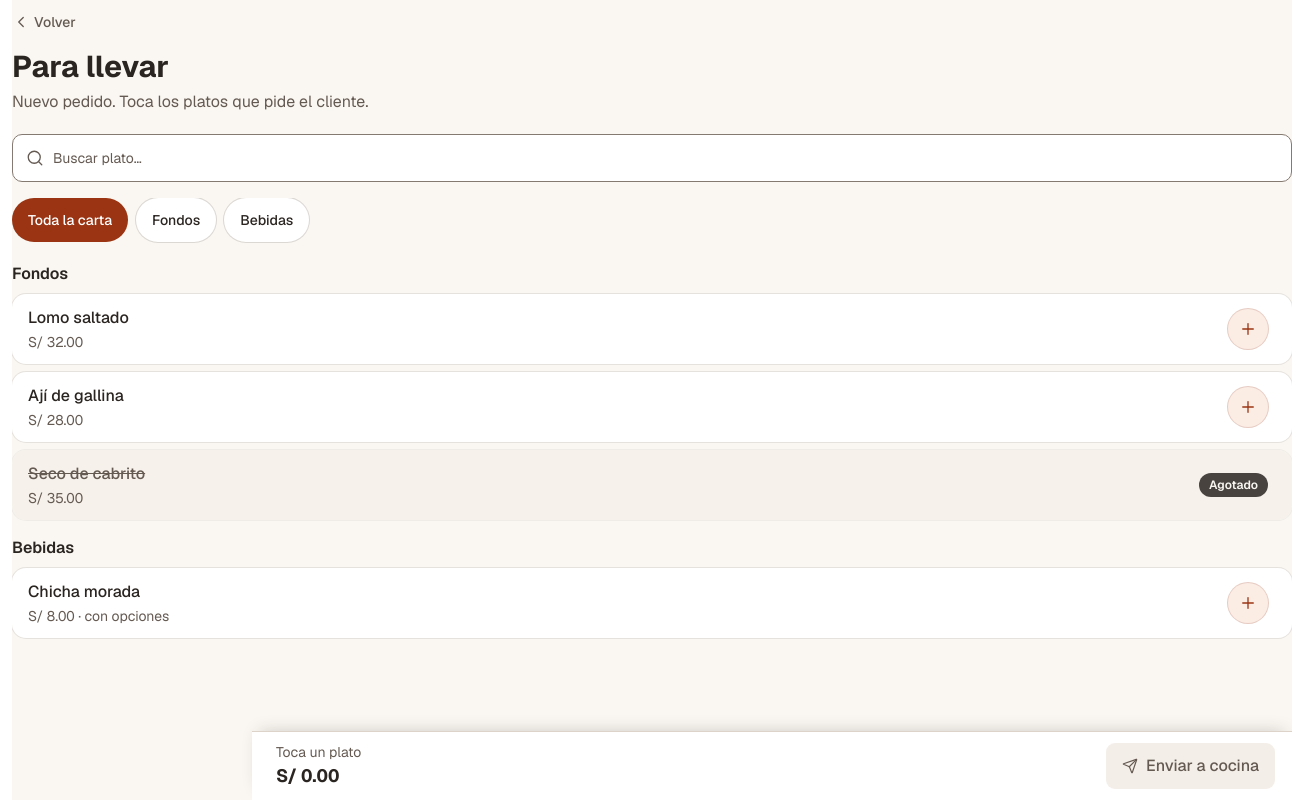
Test case: la carta para tomar el pedido › con el más y el menos se ajusta la cantidad; en uno, el menos quita el plato
The image size is (1304, 800).
Click the button "Lomo saltado S/ 32.00": coordinates (78, 317) [12,294,1284,364]
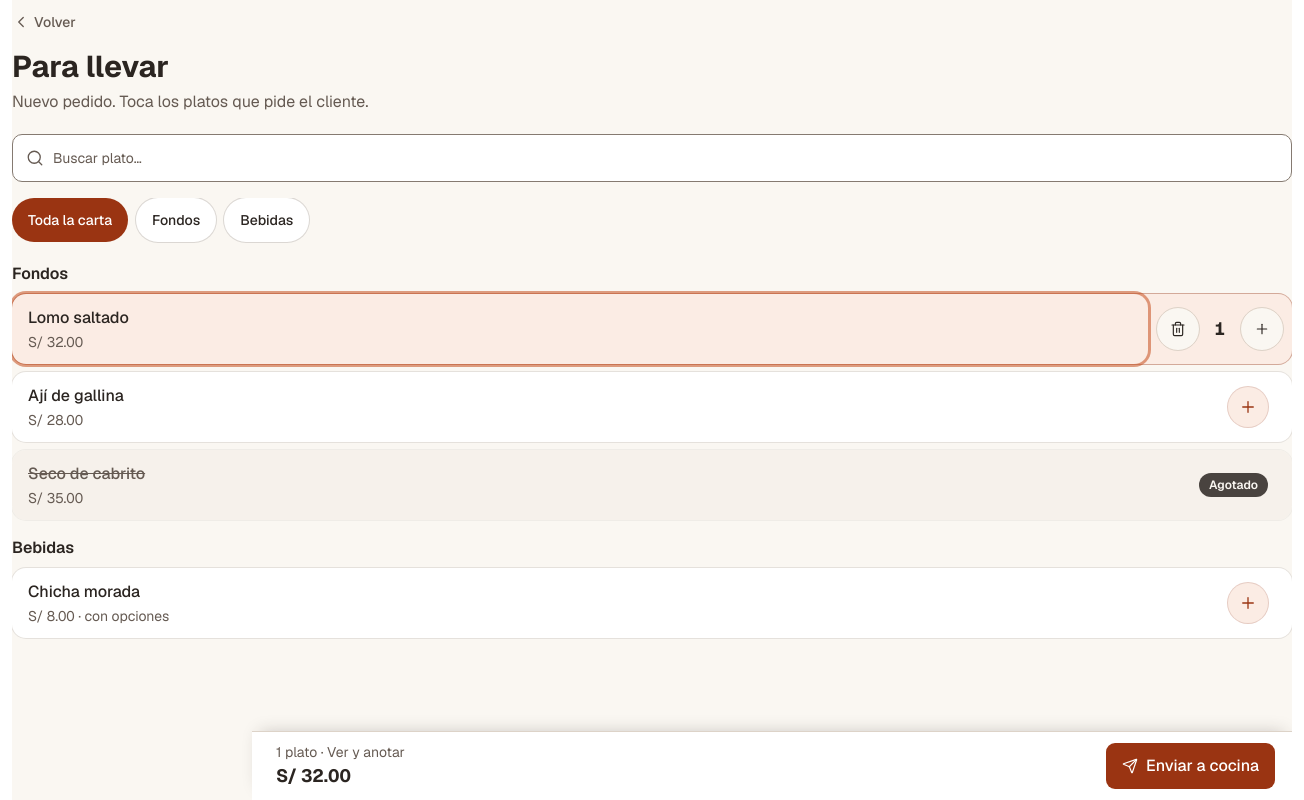
Click the button named "Uno más de Lomo saltado": coordinates (1262, 328) [1240,306,1284,350]
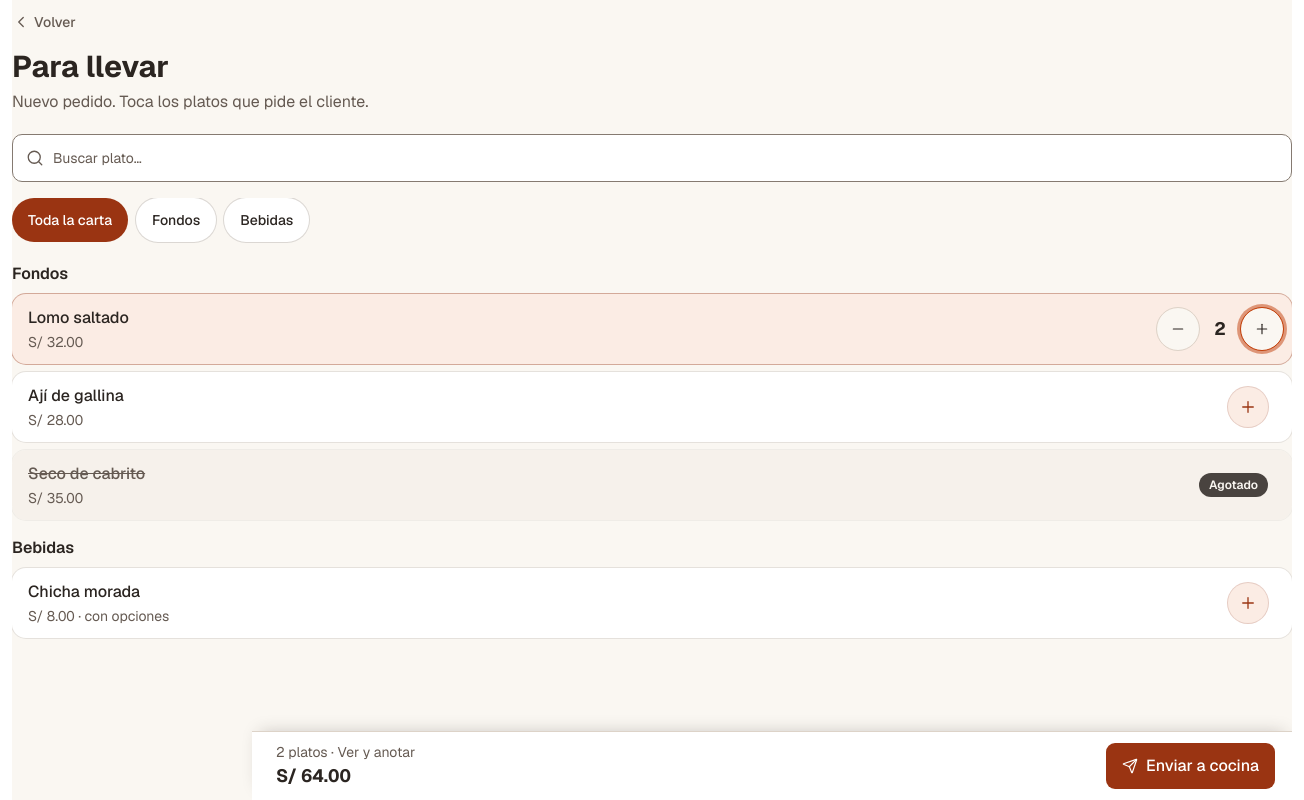
Now the text "2 platos · Ver y anotar" is shown, box [276,742,415,762]
Click the button named "Uno menos de Lomo saltado": coordinates (1178, 328) [1156,306,1200,350]
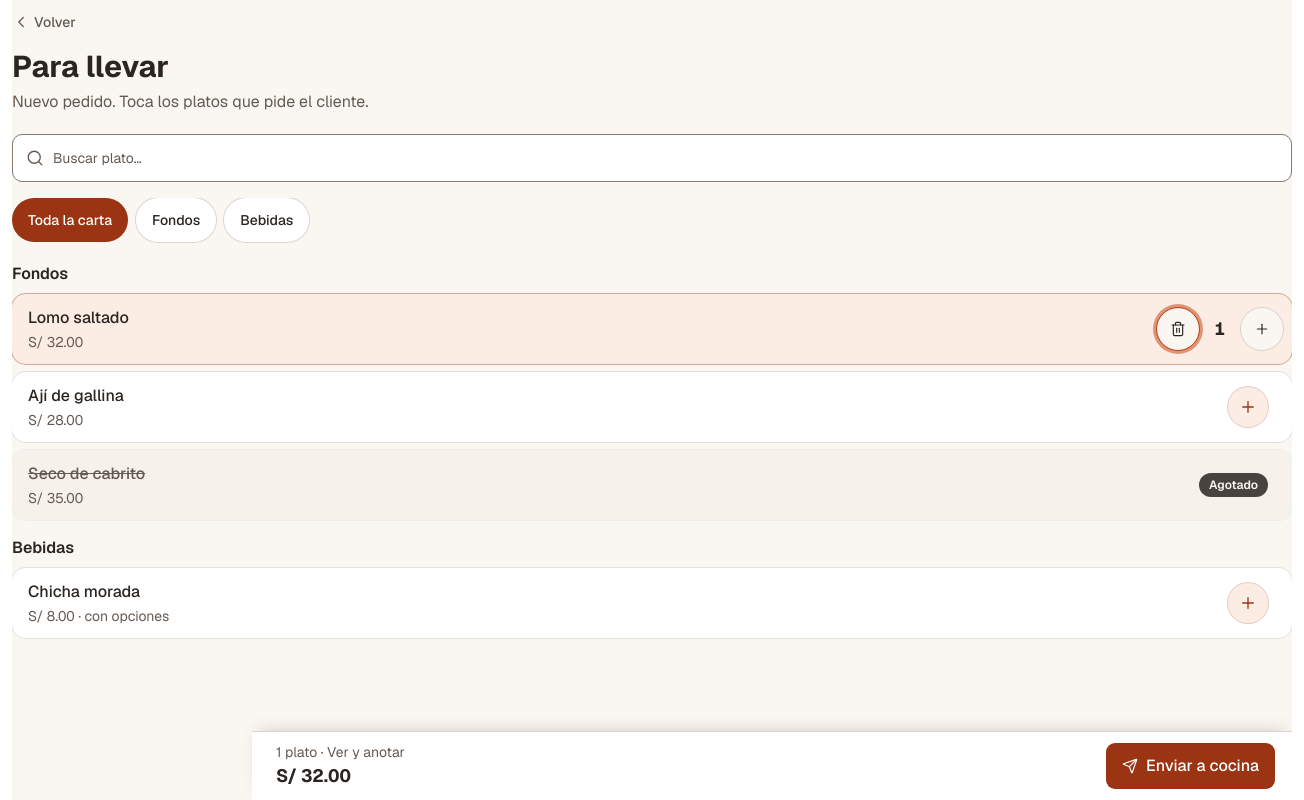
Click the button named "Quitar Lomo saltado": coordinates (1178, 328) [1156,306,1200,350]
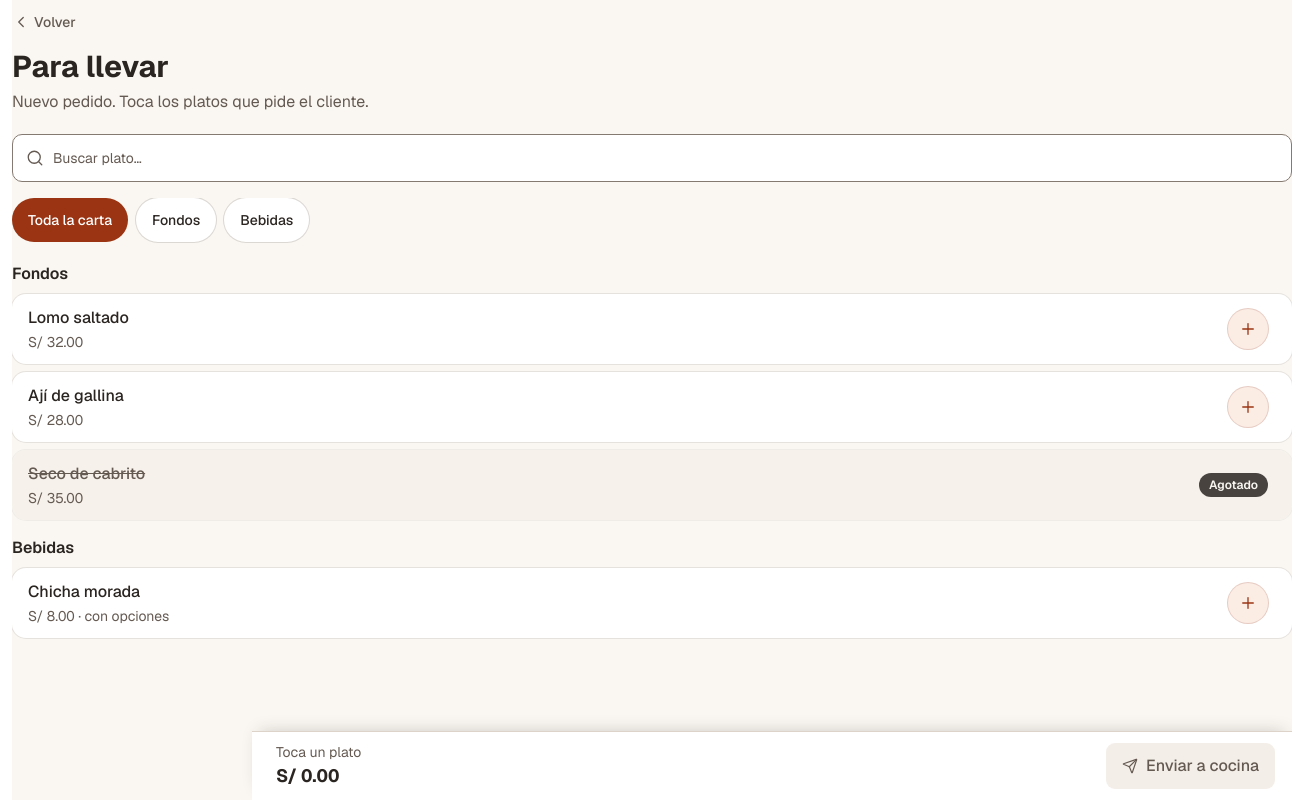
Now the text "Toca un plato" is shown, box [276,742,361,762]
